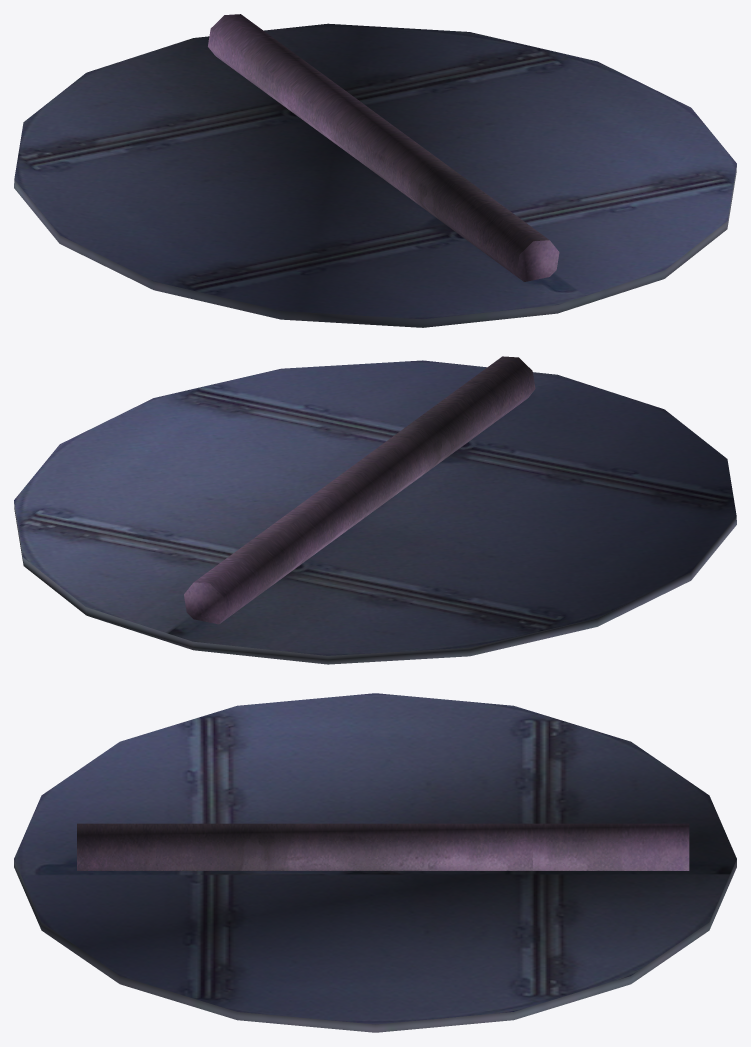
Rendered from RTA0201220726_0076L_02_normalization.obj.
3 views of the same model, one above another, from view 1: azimuth 30°, elevation 25°; view 2: azimuth 150°, elevation 25°; view 3: azimuth 270°, elevation 25° (orthographic).
Parts seen in each view (by area): view 1: RTA0201220726_0076S_02; view 2: RTA0201220726_0076S_02; view 3: RTA0201220726_0076S_02.
Part boxes in pixels (x1,y1,x2,y2): RTA0201220726_0076S_02: (14,14,736,327); RTA0201220726_0076S_02: (14,356,736,664); RTA0201220726_0076S_02: (14,693,736,1032).
Bounding box in the file's own units: 0.7055 × 0.0646 × 0.7057.
Materials: 1 (1 with a texture image).
